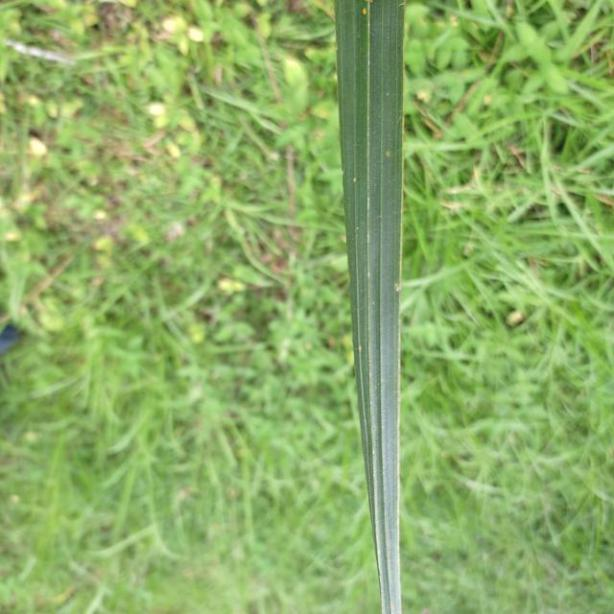Boron: (332, 0, 405, 614)
